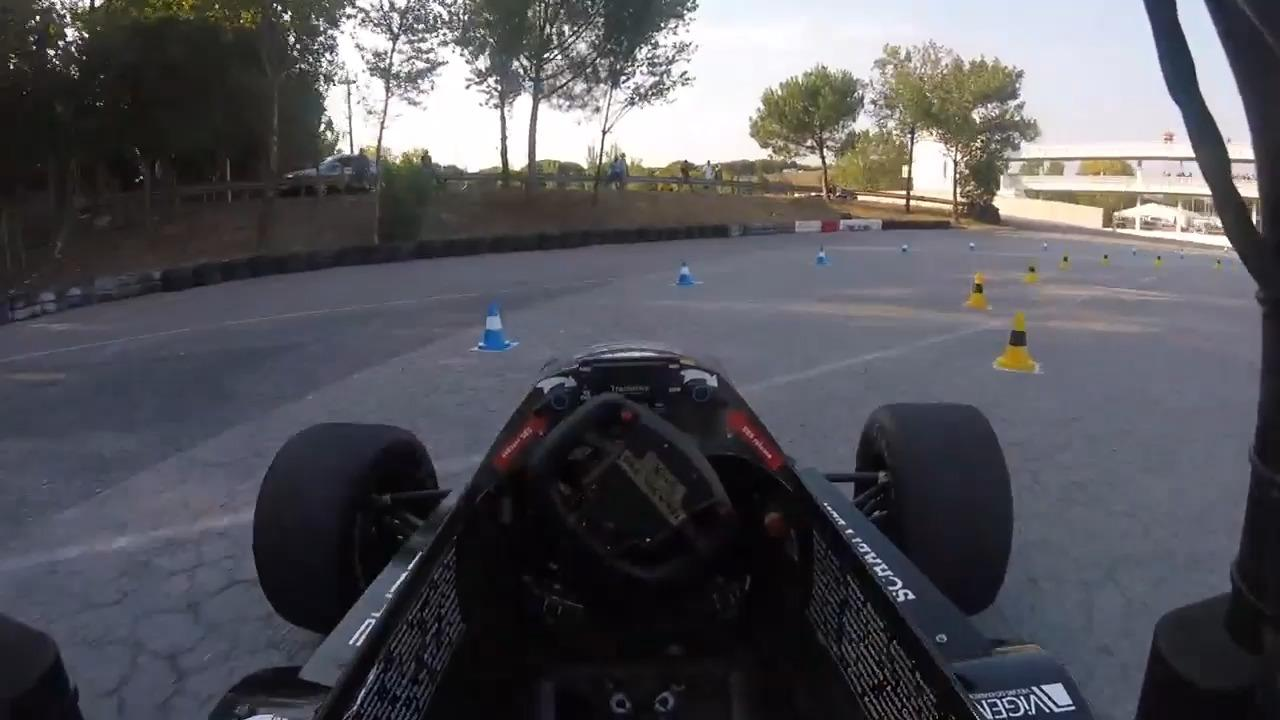blue_cone: (475, 301, 514, 351), (673, 258, 698, 288), (816, 244, 828, 264)
yellow_cone: (993, 309, 1042, 375), (965, 272, 991, 312), (1022, 262, 1040, 284), (1059, 248, 1074, 273)
